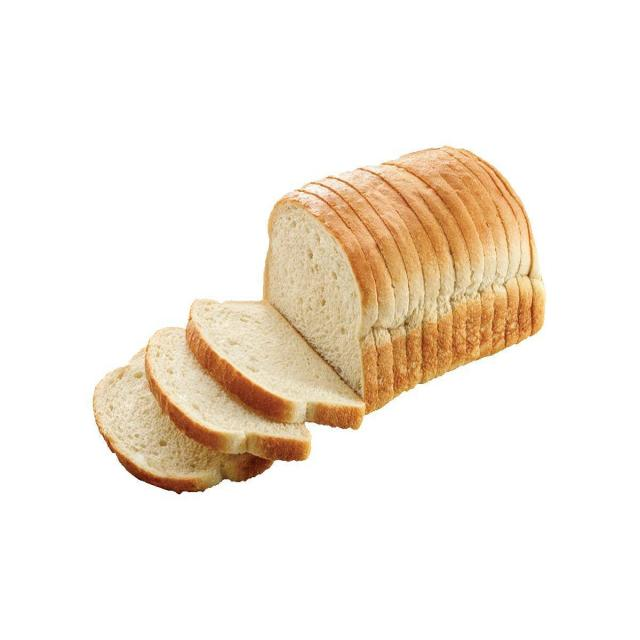Bread: (260, 144, 552, 420), (92, 329, 313, 494), (179, 293, 369, 448)
